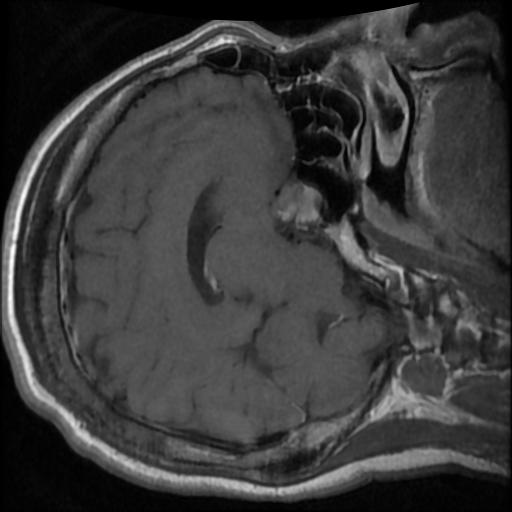pituitary tumour: (270, 182, 323, 226)
